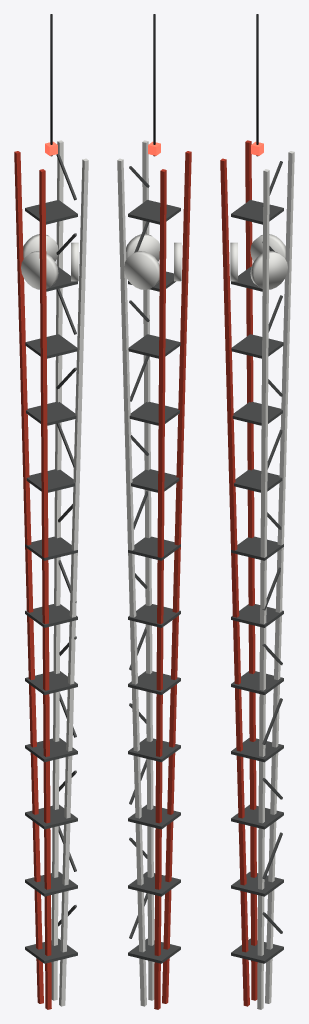
The model's file is CommsTower.fbx.
3 renders of one model, left to right at view 1: azimuth 30°, elevation 25°; view 2: azimuth 150°, elevation 25°; view 3: azimuth 330°, elevation 25°, orthographic.
Parts seen in each view (by area): view 1: Leg2, Leg3, Leg1, Leg0, Dish2, Ring11, Ring9, Ring8, Ring6, Ring5, Ring7, Ring4 (+8 smaller); view 2: Leg0, Leg1, Leg3, Leg2, Dish0, Ring11, Ring9, Ring8, Ring6, Ring5, Ring7, Ring4 (+7 smaller); view 3: Leg3, Leg2, Leg0, Leg1, Dish1, Ring11, Ring9, Ring8, Ring6, Ring5, Ring7, Ring4 (+8 smaller).
Part boxes in pixels (left/top/right/bottom): Leg2: left=59, top=158, right=88, bottom=1006; Leg3: left=39, top=169, right=51, bottom=1009; Leg1: left=14, top=151, right=43, bottom=1003; Leg0: left=51, top=140, right=63, bottom=1000; Dish2: left=21, top=251, right=58, bottom=289; Ring11: left=25, top=200, right=77, bottom=224; Ring9: left=25, top=334, right=77, bottom=358; Ring8: left=26, top=401, right=76, bottom=425; Ring6: left=25, top=536, right=77, bottom=560; Ring5: left=25, top=604, right=77, bottom=627; Ring7: left=26, top=469, right=74, bottom=492; Ring4: left=25, top=671, right=77, bottom=694; Leg0: left=117, top=158, right=146, bottom=1006; Leg1: left=154, top=169, right=166, bottom=1009; Leg3: left=162, top=151, right=191, bottom=1003; Leg2: left=142, top=140, right=154, bottom=1000; Dish0: left=124, top=251, right=159, bottom=289; Ring11: left=128, top=200, right=180, bottom=224; Ring9: left=128, top=334, right=180, bottom=358; Ring8: left=129, top=401, right=179, bottom=425; Ring6: left=128, top=536, right=180, bottom=560; Ring5: left=128, top=604, right=180, bottom=627; Ring7: left=131, top=469, right=179, bottom=492; Ring4: left=128, top=671, right=180, bottom=694; Leg3: left=220, top=158, right=249, bottom=1006; Leg2: left=257, top=169, right=269, bottom=1009; Leg0: left=265, top=151, right=294, bottom=1003; Leg1: left=245, top=140, right=257, bottom=1000; Dish1: left=250, top=251, right=287, bottom=289; Ring11: left=231, top=200, right=283, bottom=224; Ring9: left=231, top=334, right=283, bottom=358; Ring8: left=232, top=401, right=282, bottom=425; Ring6: left=231, top=536, right=283, bottom=560; Ring5: left=231, top=604, right=283, bottom=627; Ring7: left=234, top=469, right=282, bottom=492; Ring4: left=231, top=671, right=283, bottom=694.
Bounding box in the file's own units: 171 × 148 × 2800.
